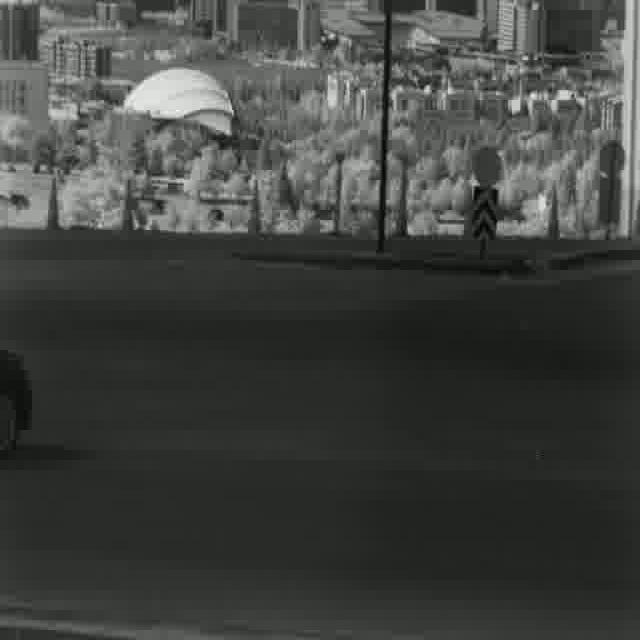Car: (0, 346, 36, 456)
